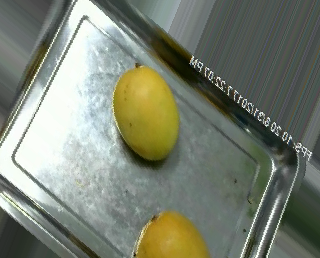Mango: (110, 60, 182, 162), (124, 203, 214, 256)
